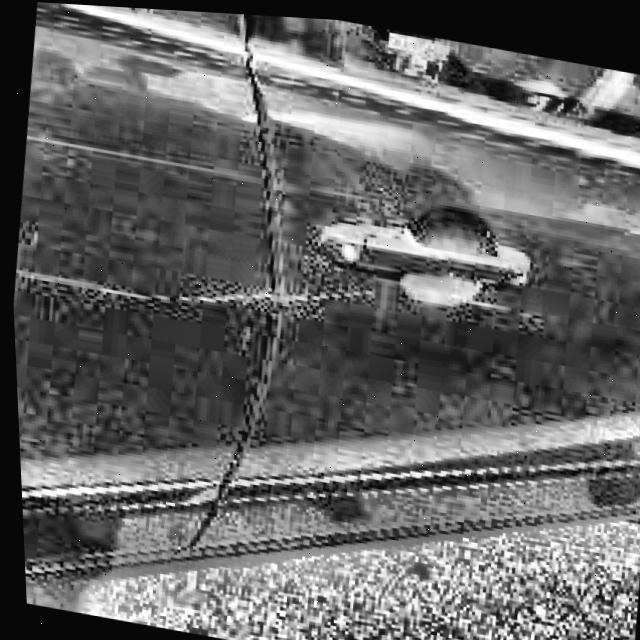door_scratch: (11, 219, 372, 354)
